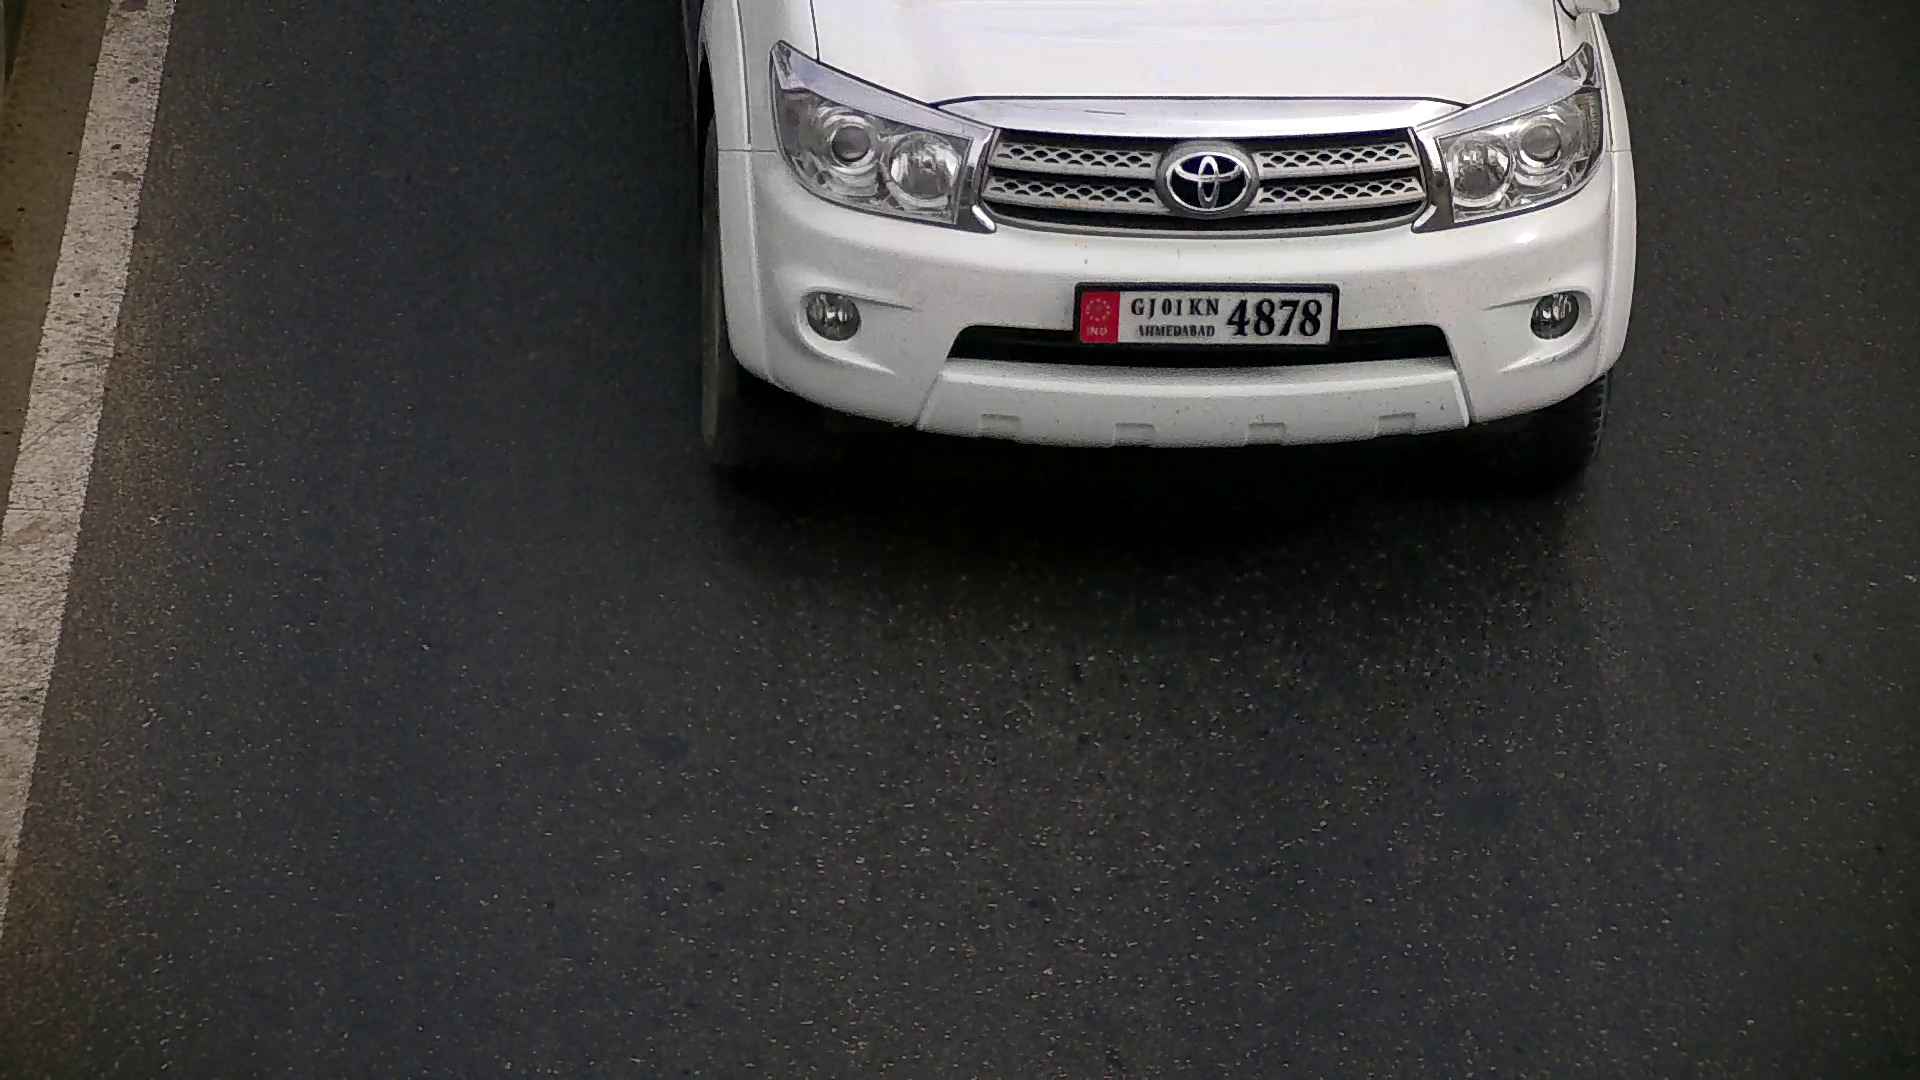numberplate: (1070, 280, 1333, 353)
